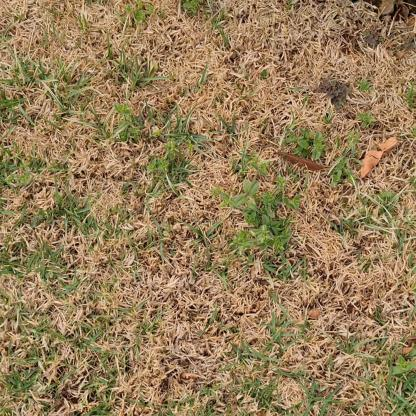Weeds: (210, 158, 301, 259), (148, 123, 192, 185), (288, 129, 327, 165), (324, 160, 358, 195), (113, 101, 138, 144), (316, 76, 347, 110), (392, 351, 415, 377), (357, 109, 377, 127), (358, 78, 372, 96)
